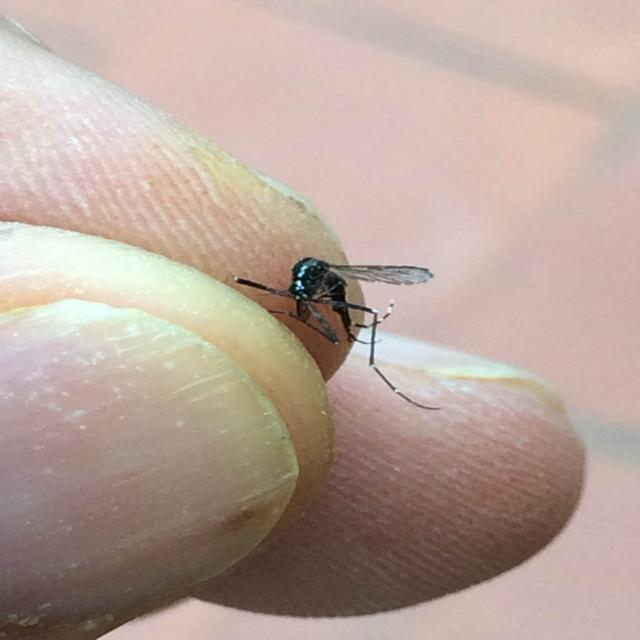albopictus: (216, 237, 448, 416)
